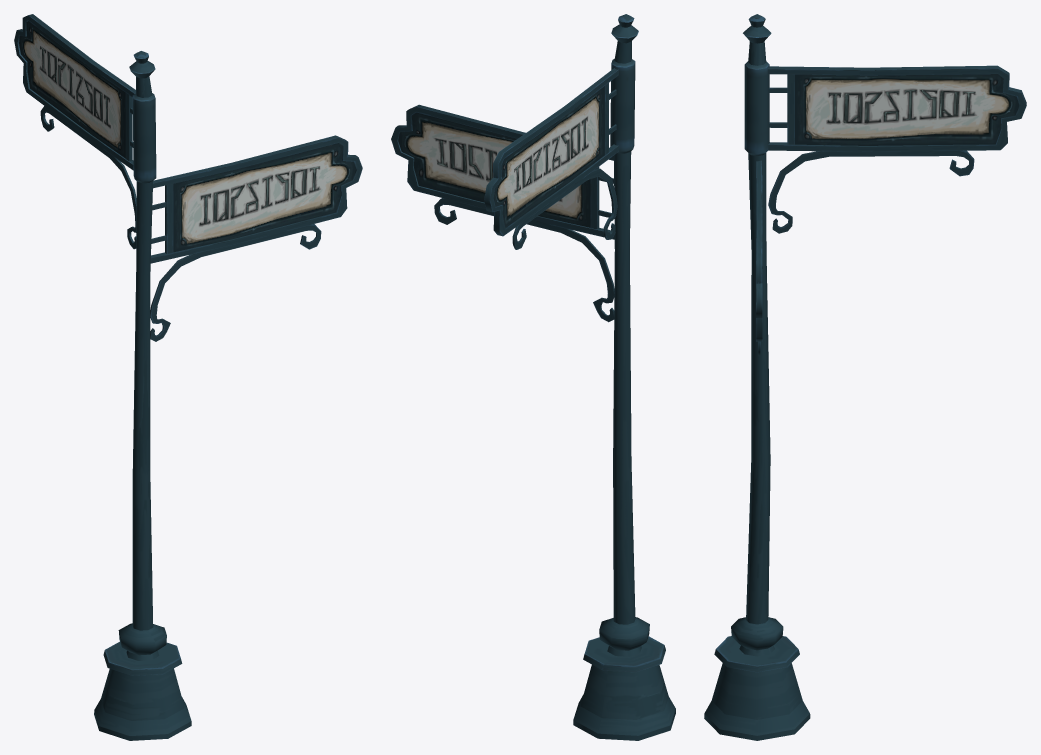
Rendered from P_PROP_streetsign_city_02.fbx.
3 renders of one model, left to right at view 1: azimuth 30°, elevation 25°; view 2: azimuth 150°, elevation 25°; view 3: azimuth 270°, elevation 25°, orthographic. The views are drawn at different scales.
Parts seen in each view (by area): view 1: P_PROP_streetsign_city_02, P_PROP_streetsign_city_02.003, P_PROP_streetsign_city_02.001; view 2: P_PROP_streetsign_city_02, P_PROP_streetsign_city_02.003, P_PROP_streetsign_city_02.001; view 3: P_PROP_streetsign_city_02.001, P_PROP_streetsign_city_02, P_PROP_streetsign_city_02.003.
Part boxes in pixels (box(x1,y1,x2,y2)): P_PROP_streetsign_city_02: box(94, 51, 191, 740); P_PROP_streetsign_city_02.003: box(150, 135, 362, 341); P_PROP_streetsign_city_02.001: box(14, 14, 136, 249); P_PROP_streetsign_city_02: box(573, 14, 675, 740); P_PROP_streetsign_city_02.003: box(391, 104, 614, 322); P_PROP_streetsign_city_02.001: box(484, 68, 619, 249); P_PROP_streetsign_city_02.001: box(768, 65, 1026, 233); P_PROP_streetsign_city_02: box(704, 14, 810, 740); P_PROP_streetsign_city_02.003: box(756, 160, 762, 355).
Size of the model in its own units: 150 by 365 by 152.
